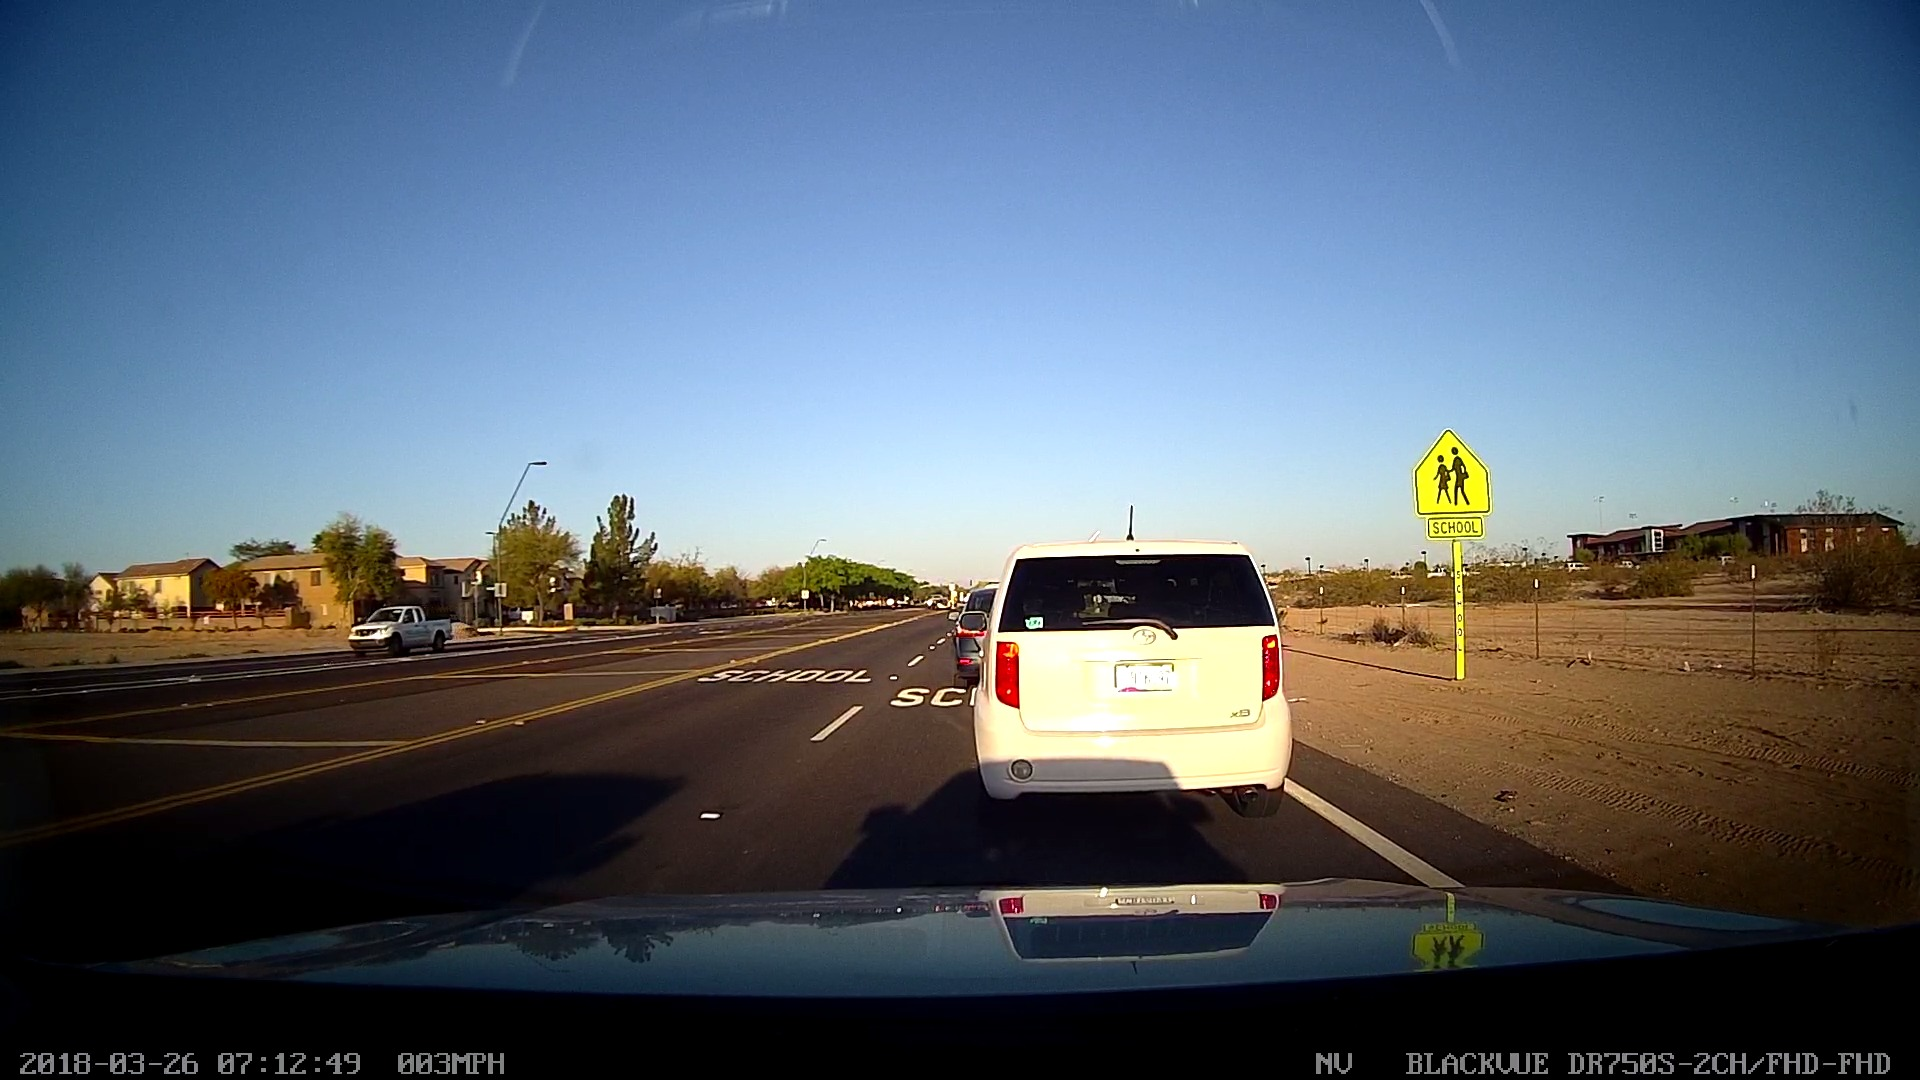plate: (1106, 652, 1183, 702)
vehicle: (964, 537, 1295, 813), (345, 598, 460, 660)
